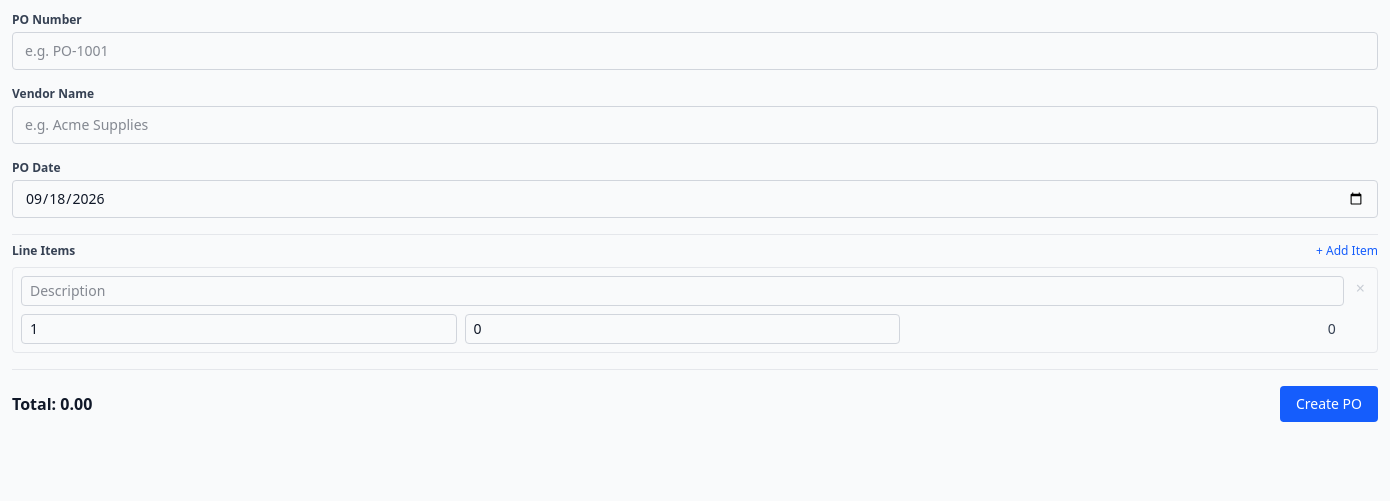
Test case: POCreateForm Component › validates negative unit price on submit
Type "PO-123" into the field with placeholder "e.g. PO-1001" at (695, 51), box x1=12 y1=32 x2=1378 y2=70
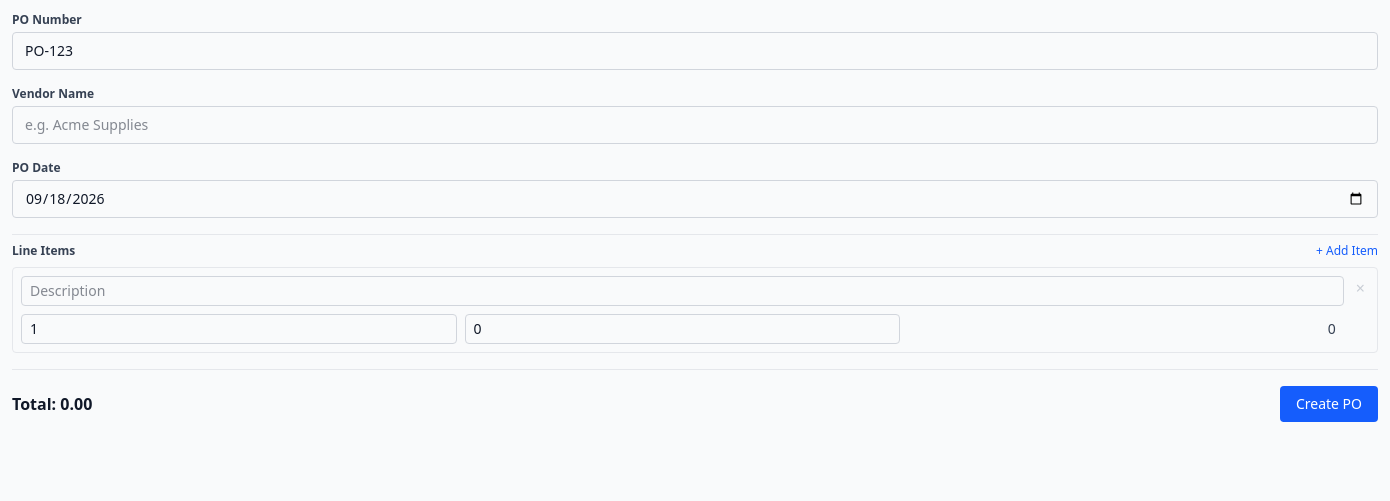
Type "Acme" into the field with placeholder "e.g. Acme Supplies" at (695, 125), box x1=12 y1=106 x2=1378 y2=144
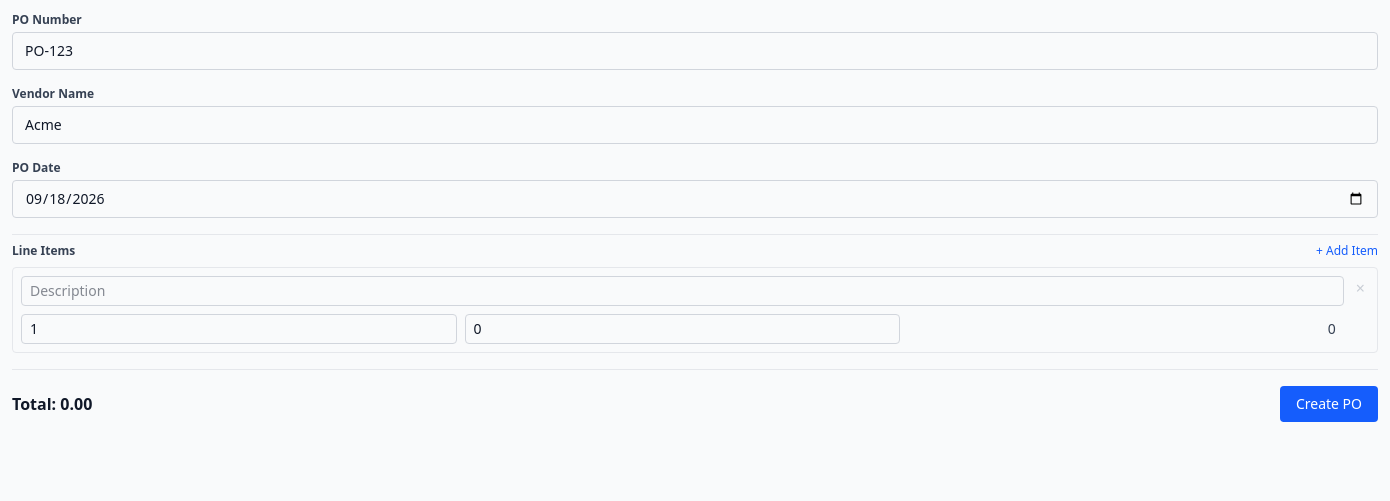
Type "Widgets" into the field with placeholder "Description" at (682, 291), box x1=21 y1=276 x2=1344 y2=306
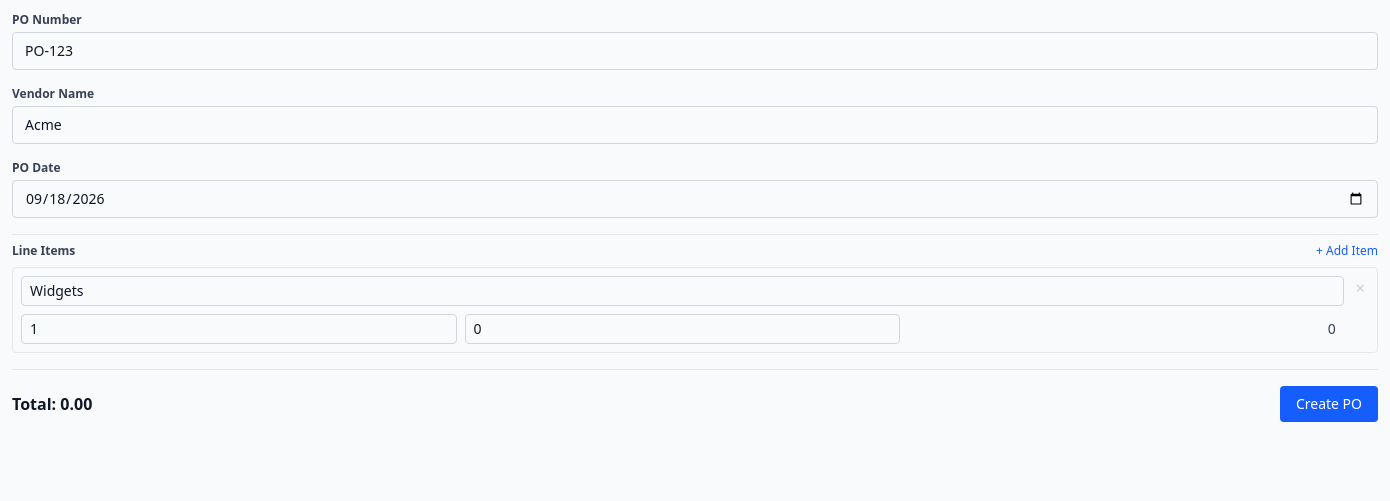
Replace the text in the 2nd number field with placeholder "Price" with "-10.50" at (682, 329), box x1=464 y1=314 x2=900 y2=344
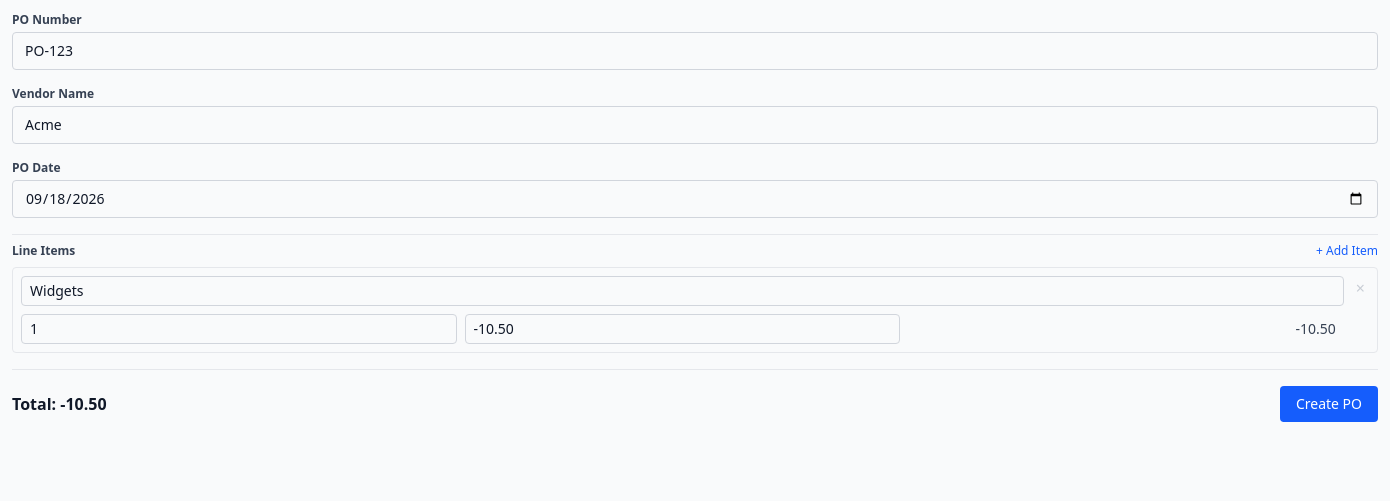
Submit the form named "Create PO"
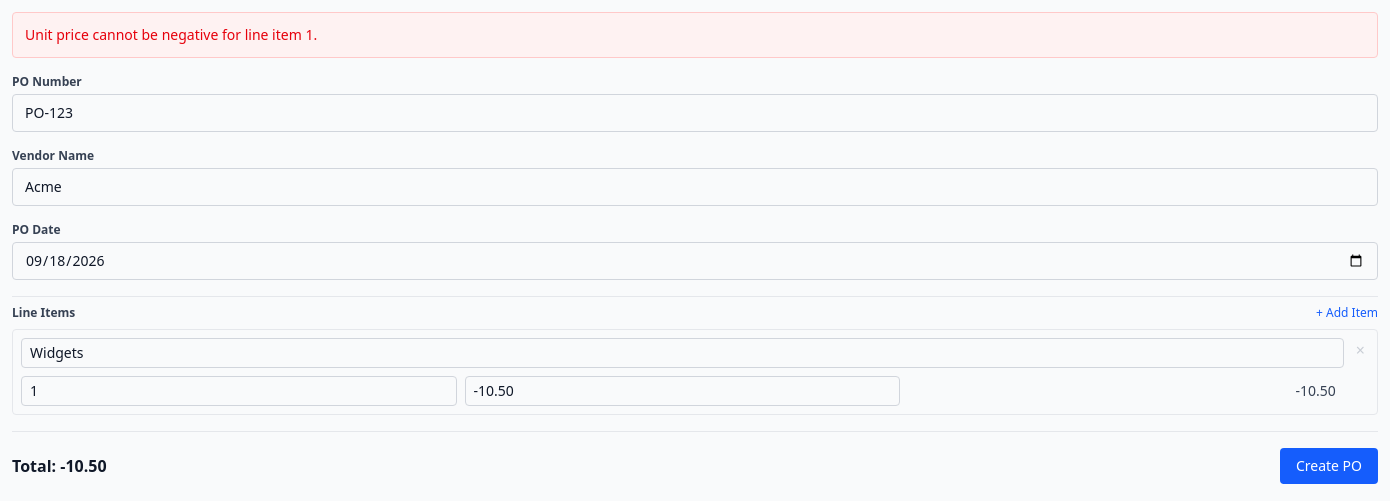
Expected: the text "Unit price cannot be negative for line item 1." is shown, x1=12 y1=12 x2=1378 y2=58
